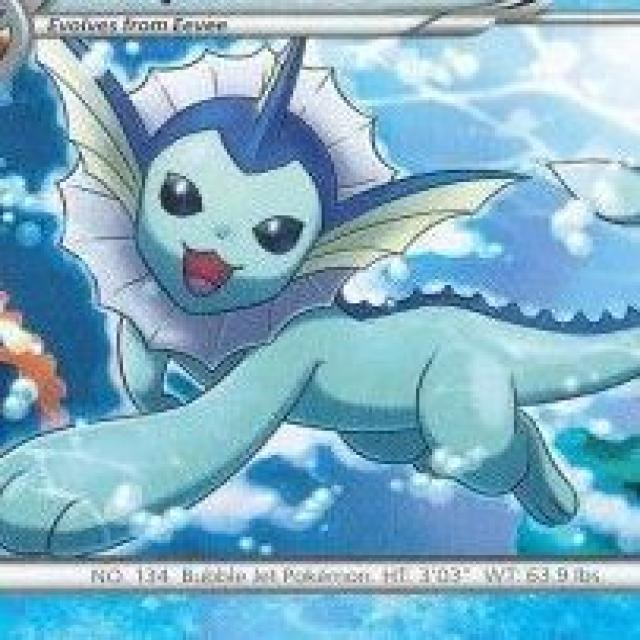Vaporeon: (63, 66, 542, 520)
